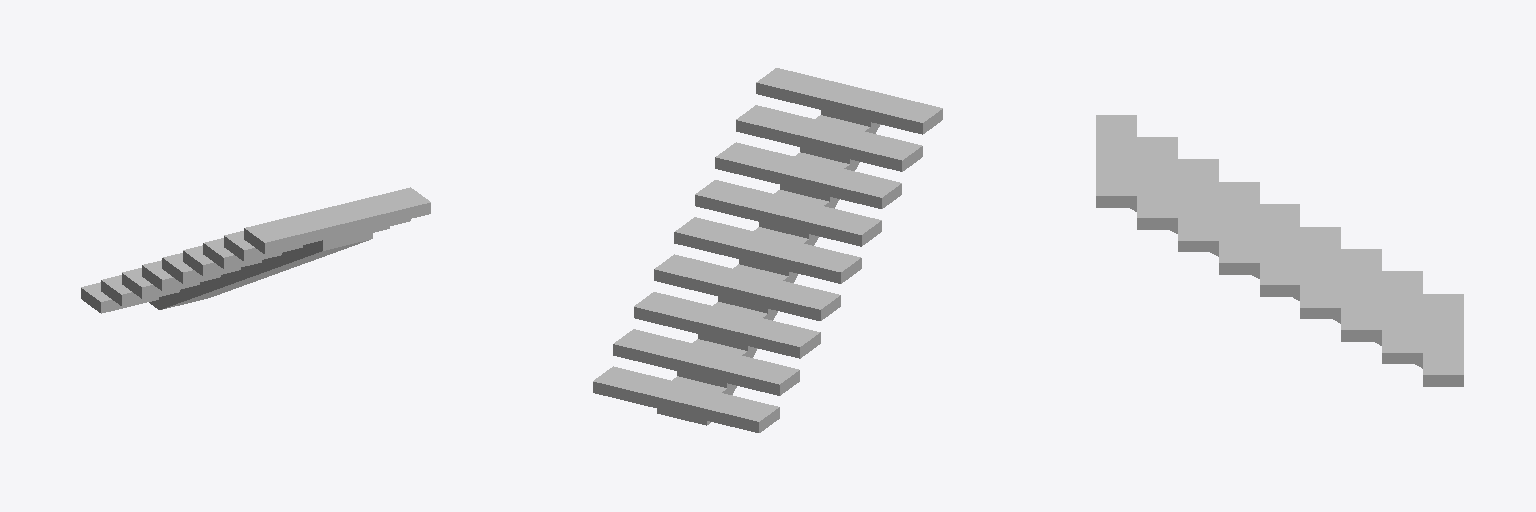
File: stairsLong.obj
3 views of the same model, side by side, from view 1: azimuth 30°, elevation 25°; view 2: azimuth 150°, elevation 25°; view 3: azimuth 270°, elevation 25° (orthographic).
Parts seen in each view (by area): view 1: stairsLong; view 2: stairsLong; view 3: stairsLong.
Part boxes in pixels (left/top/right/bottom): stairsLong: left=81, top=187, right=430, bottom=313; stairsLong: left=593, top=68, right=942, bottom=432; stairsLong: left=1096, top=115, right=1463, bottom=386.
Size of the model in its own units: 4.83 by 5.58 by 9.24.